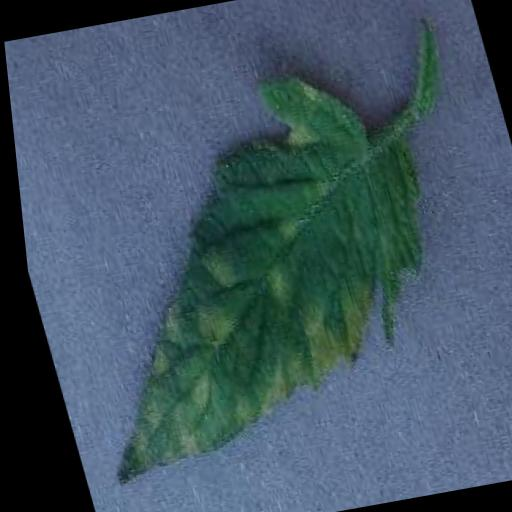Leaf Mold: (5, 59, 482, 485)
